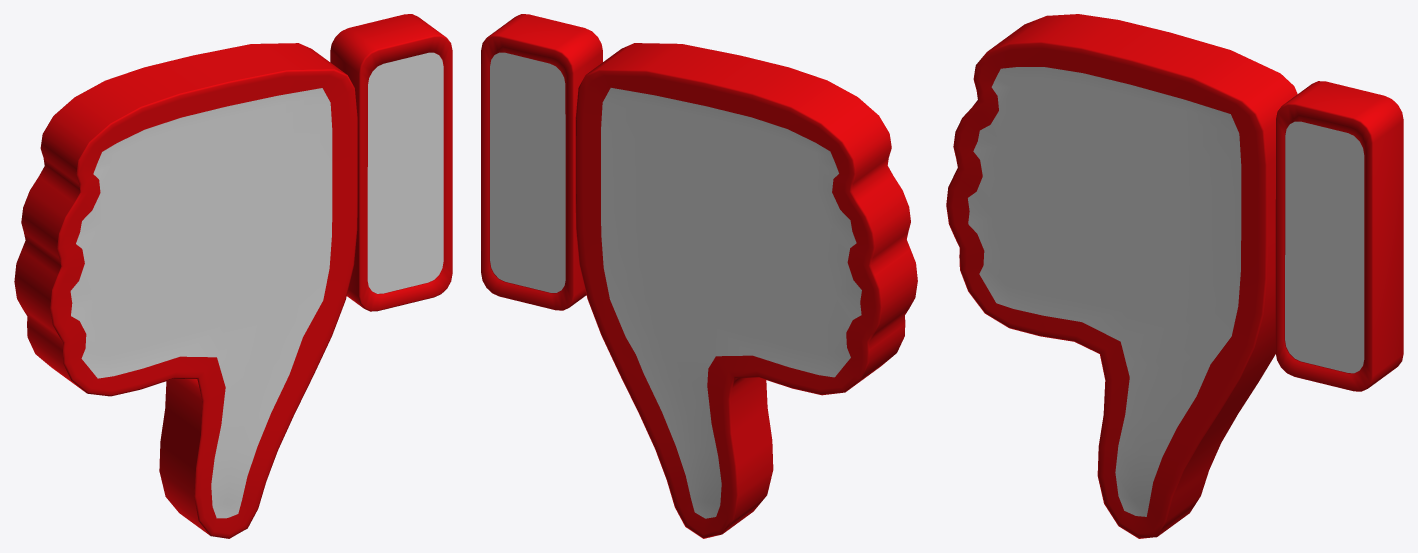
The model's file is Dislike.fbx.
The picture shows the model from 3 angles, left to right: view 1: azimuth 30°, elevation 25°; view 2: azimuth 150°, elevation 25°; view 3: azimuth 330°, elevation 25°; orthographic projection. The views are drawn at different scales.
Parts seen in each view (by area): view 1: Dislike; view 2: Dislike; view 3: Dislike.
Part boxes in pixels (left/top/right/bottom): Dislike: left=14, top=14, right=452, bottom=538; Dislike: left=481, top=14, right=917, bottom=538; Dislike: left=946, top=14, right=1403, bottom=538.
Size of the model in its own units: 48.64 by 52.87 by 7.62.
